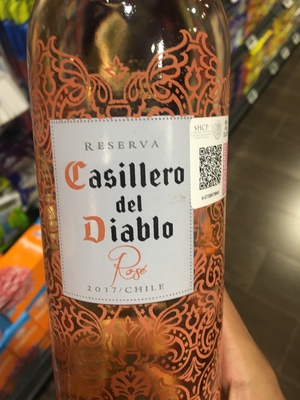casillero del diablo rose: (20, 2, 241, 400)
